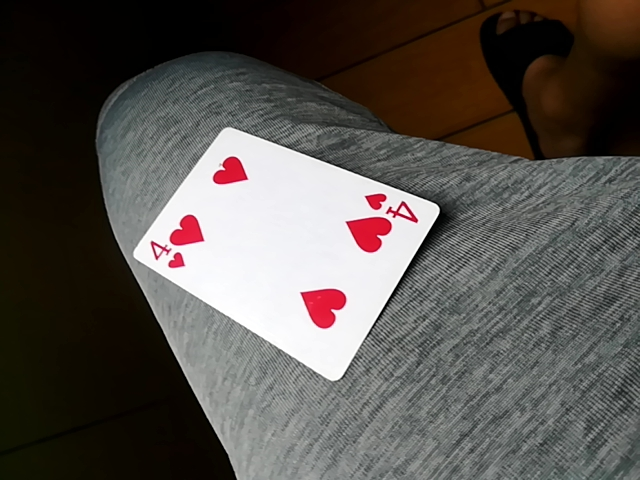hx 4: (127, 125, 448, 380)
